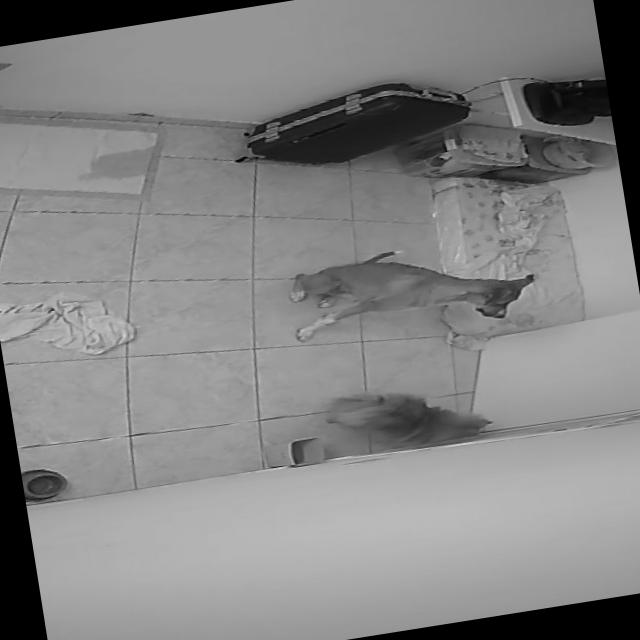sitting: (272, 225, 546, 359)
